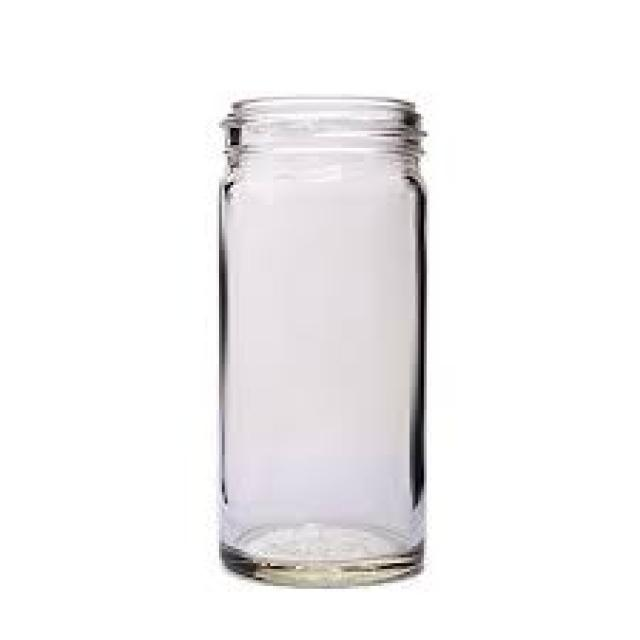glass: (216, 94, 427, 586)
